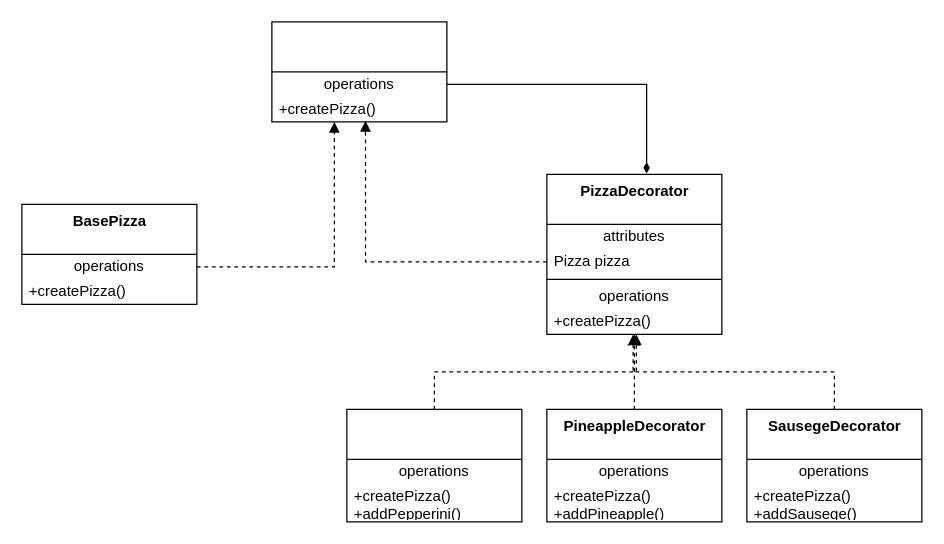
The diagram is 944 pixels wide and 544 high, and some of its shapes have lost their labels. Each missing label, with the box of its shape:
<<Interface>> Pizza: (271, 21, 447, 122)
PepperoniDecorator: (346, 408, 522, 522)
